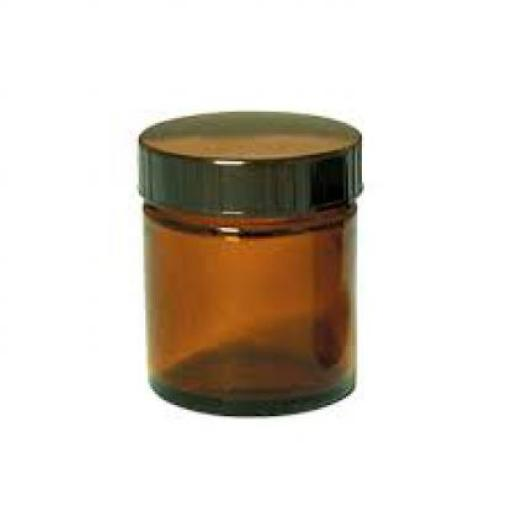glass: (141, 198, 357, 416)
metal: (136, 109, 360, 216)
